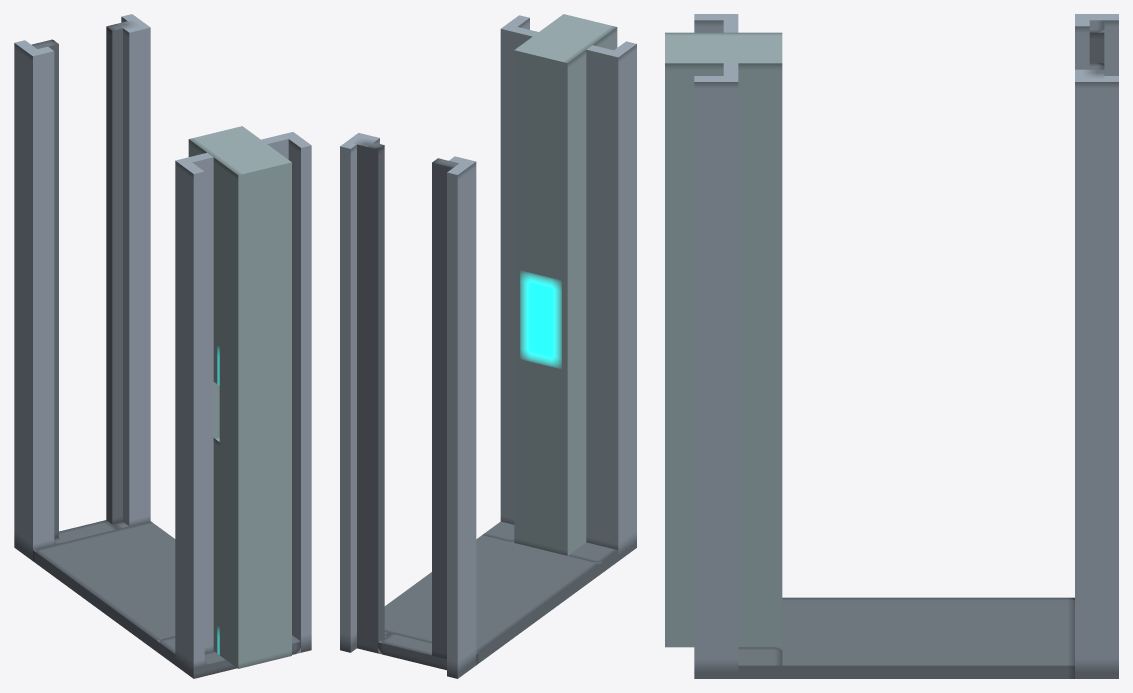
The model's file is dzwi_otwarte_szpital.dae.
The picture shows the model from 3 angles, left to right: view 1: azimuth 30°, elevation 25°; view 2: azimuth 150°, elevation 25°; view 3: azimuth 270°, elevation 25°; orthographic projection. The views are drawn at different scales.
Parts seen in each view (by area): view 1: Content; view 2: Content; view 3: Content.
Part boxes in pixels (box(x1,y1,x2,y2)): Content: box(14, 14, 311, 678); Content: box(340, 14, 636, 678); Content: box(665, 14, 1118, 678).
Bounding box in the file's own units: 11 × 45 × 31.
1 material, 1 textured.
